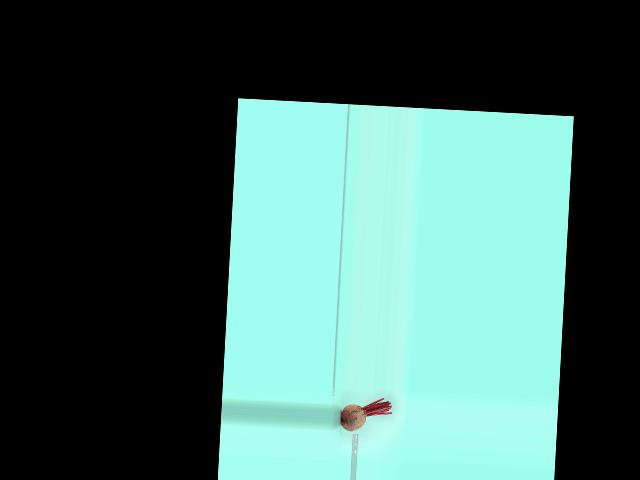beet: (339, 396, 391, 433)
